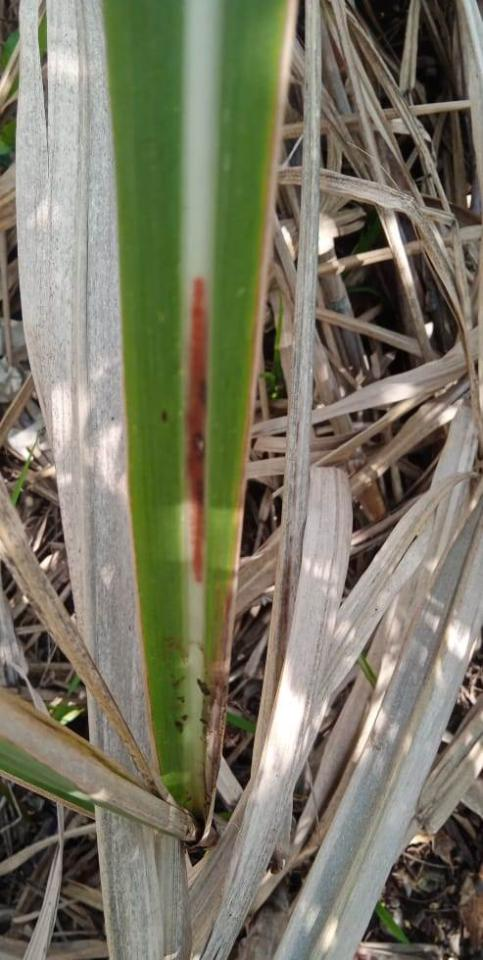RedRot: (182, 272, 211, 589)
